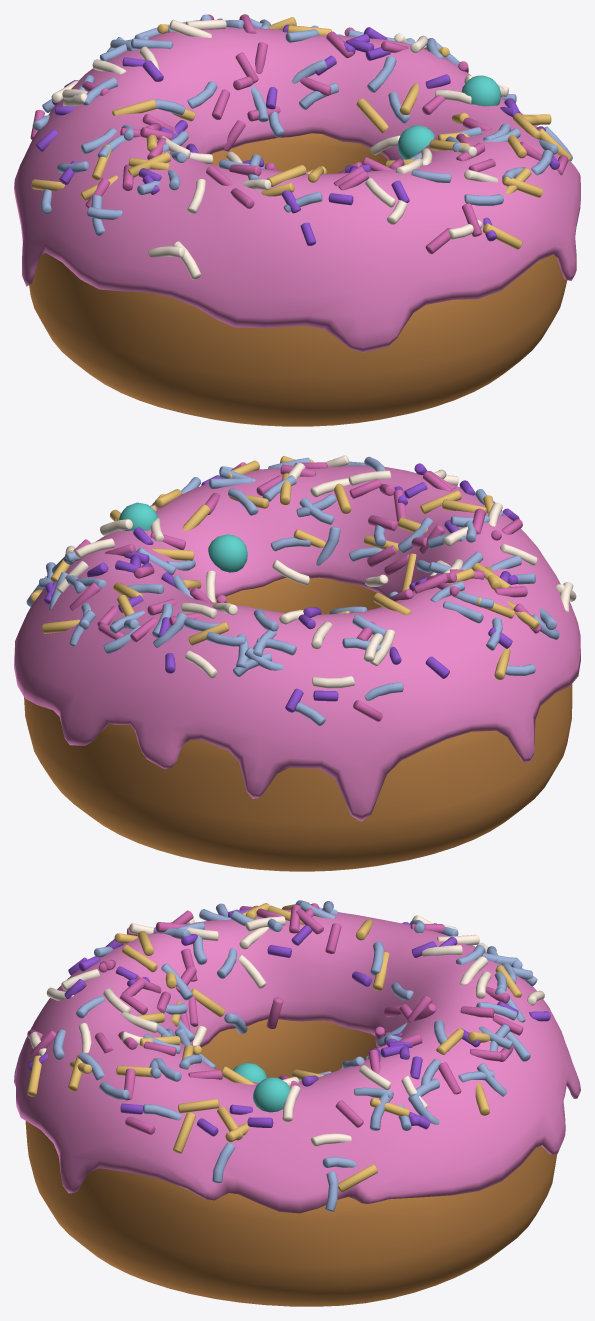
File: SM_donut_pink.glb
3 renders of one model, top to bottom at view 1: azimuth 30°, elevation 25°; view 2: azimuth 150°, elevation 25°; view 3: azimuth 270°, elevation 25°, orthographic. The views are drawn at different scales.
Parts seen in each view (by area): view 1: SM_donut_pink; view 2: SM_donut_pink; view 3: SM_donut_pink.
Boxes of the visible parts, x1,y1,x2,y2 form: SM_donut_pink: (14, 14, 580, 426); SM_donut_pink: (14, 455, 580, 871); SM_donut_pink: (14, 900, 580, 1306).
Bounding box in the file's own units: 0.1732 × 0.084 × 0.172.
1 material, 1 textured.
